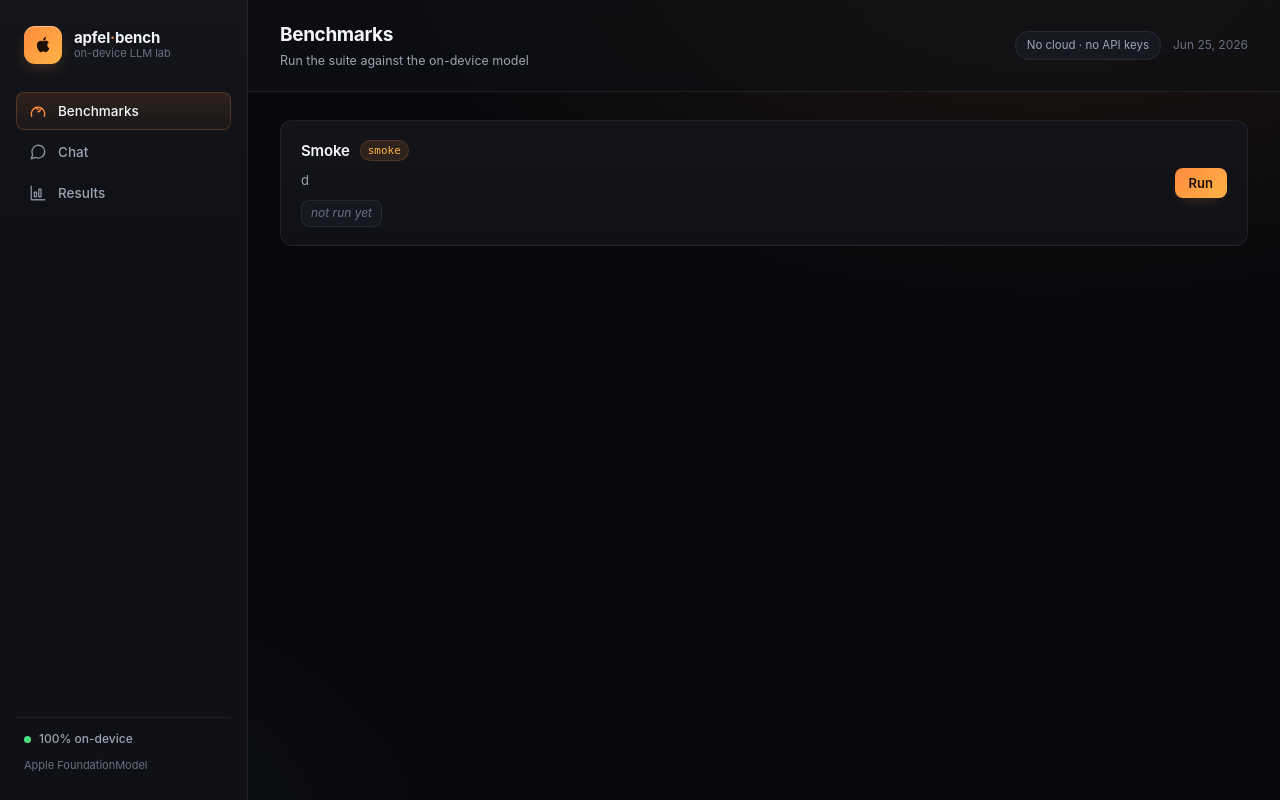
Test: App › switches tabs when clicked
The width and height of the screenshot is (1280, 800).
Expected: the button with test id "run-smoke" is shown, [1175,168,1227,198]
Step 1. Click the tab with test id "tab-results" → (124, 193), box [16,174,231,212]
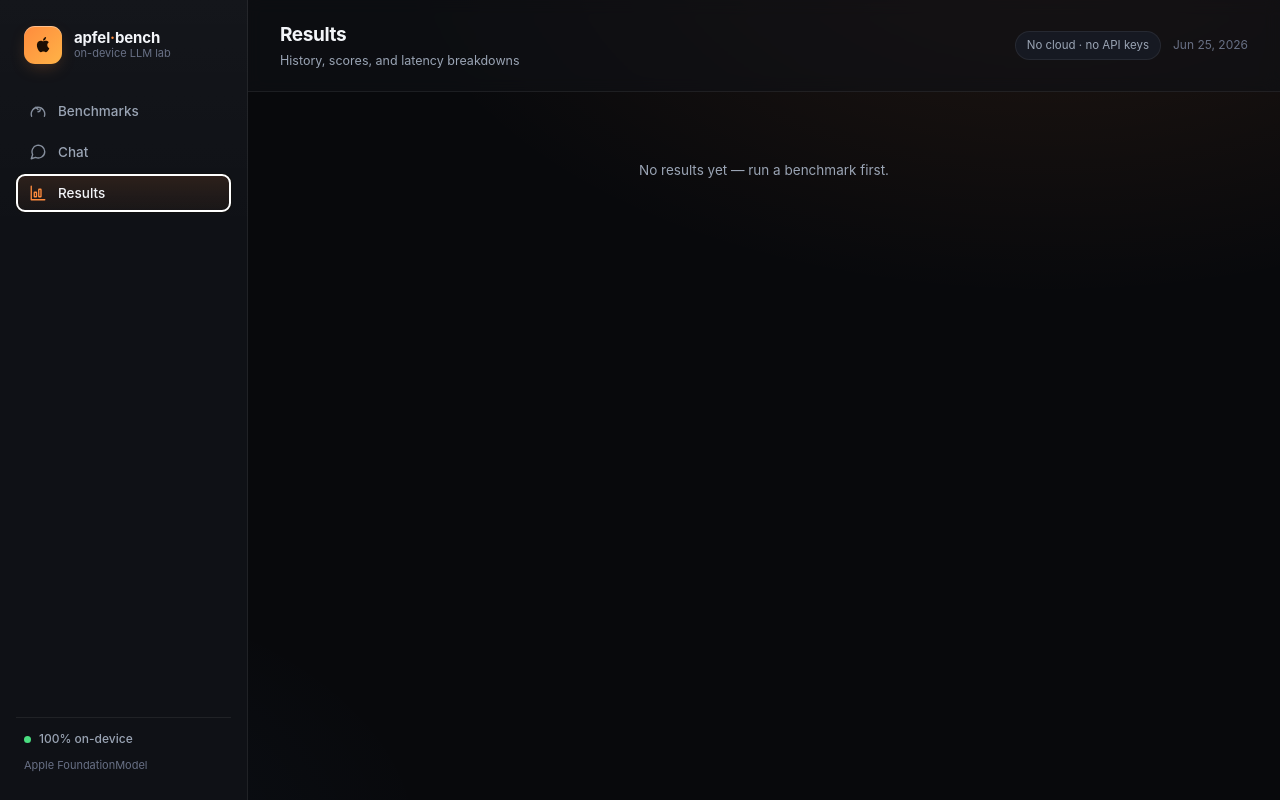
Expected: the text "No results yet — run a benchmark first." is shown, [639,162,889,178]
